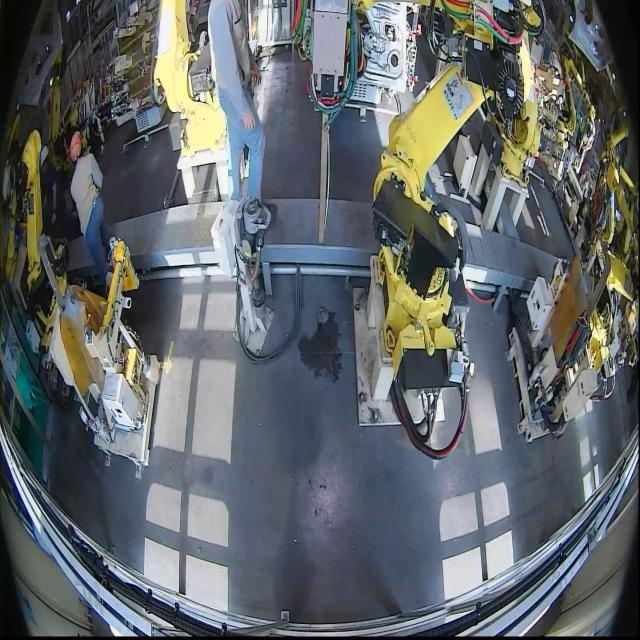Person: (207, 0, 266, 204), (68, 130, 112, 296), (40, 144, 58, 226)
